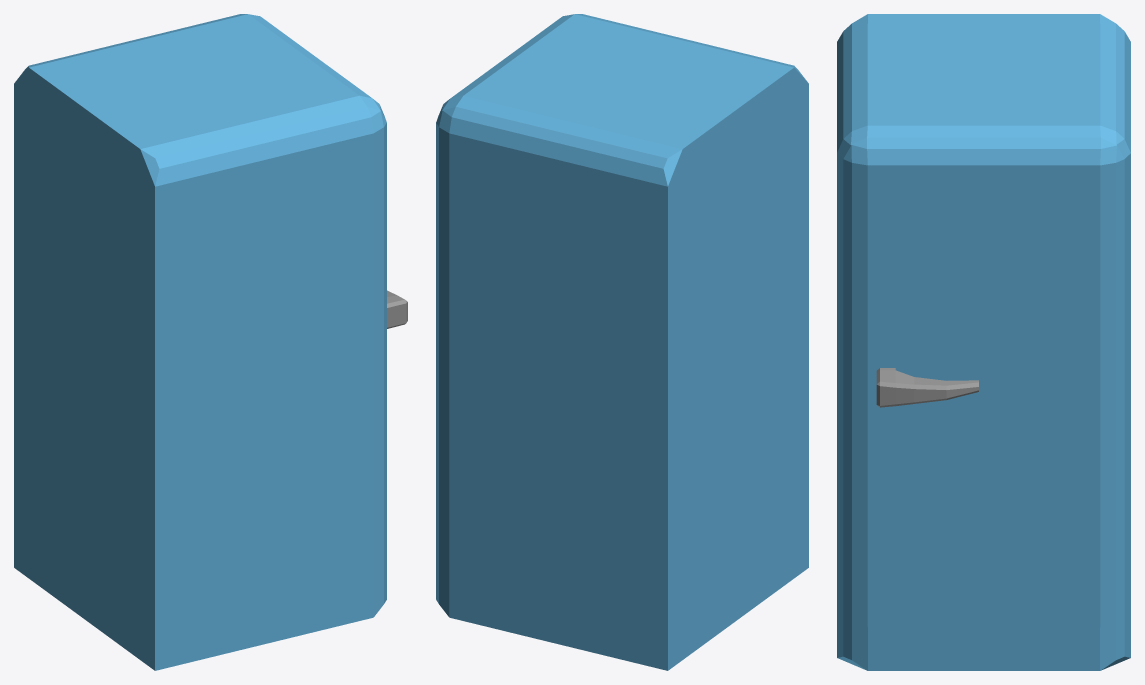
File: Refrigerator.fbx
The picture shows the model from 3 angles, left to right: view 1: azimuth 30°, elevation 25°; view 2: azimuth 150°, elevation 25°; view 3: azimuth 270°, elevation 25°; orthographic projection. The views are drawn at different scales.
Visible parts, largest first — view 1: Fridge; view 2: Fridge; view 3: Fridge.
Part boxes in pixels (box(x1,y1,x2,y2)): Fridge: box(14, 14, 407, 670); Fridge: box(436, 14, 808, 670); Fridge: box(837, 14, 1130, 670).
Size of the model in its own units: 112 by 200 by 100.
